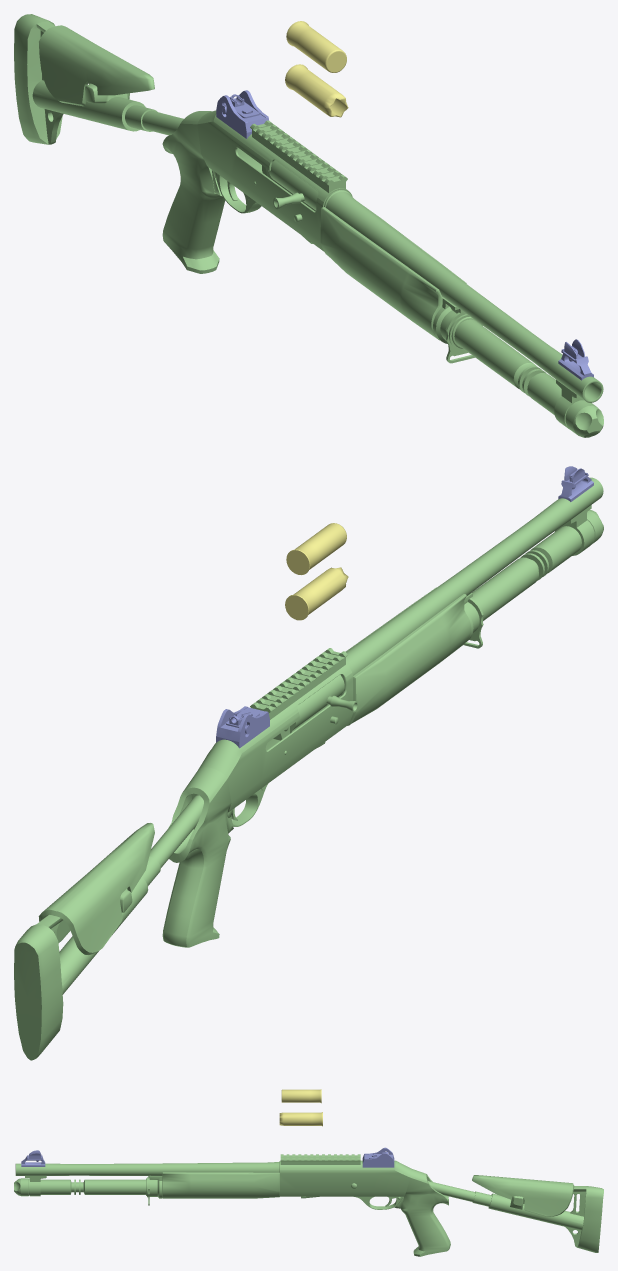
Rendered from WPN_M4.FBX.
The picture shows the model from 3 angles, top to bottom: view 1: azimuth 30°, elevation 25°; view 2: azimuth 150°, elevation 25°; view 3: azimuth 270°, elevation 25°; orthographic projection. The views are drawn at different scales.
Parts seen in each view (by area): view 1: WPN_M4, WPN_M4_sights, cal_12G_shell, cal_12G, WPN_M4_bolt; view 2: WPN_M4, WPN_M4_sights, cal_12G_shell, cal_12G, WPN_M4_bolt; view 3: WPN_M4, WPN_M4_sights, cal_12G_shell, cal_12G.
Part boxes in pixels (x1,y1,x2,y2): WPN_M4: (14, 14, 603, 437); WPN_M4_sights: (216, 90, 593, 380); cal_12G_shell: (285, 64, 348, 117); cal_12G: (286, 21, 346, 72); WPN_M4_bolt: (265, 160, 318, 211); WPN_M4: (14, 477, 603, 1060); WPN_M4_sights: (216, 466, 593, 748); cal_12G_shell: (285, 567, 348, 620); cal_12G: (286, 523, 346, 575); WPN_M4_bolt: (273, 675, 358, 740); WPN_M4: (14, 1154, 603, 1256); WPN_M4_sights: (21, 1147, 394, 1167); cal_12G_shell: (279, 1112, 322, 1126); cal_12G: (281, 1089, 321, 1103).
Size of the model in its own units: 6.73 by 31.71 by 103.
